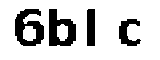6: (9, 5, 46, 50)
I: (84, 3, 104, 51)
b: (47, 3, 78, 50)
c: (114, 15, 146, 49)
